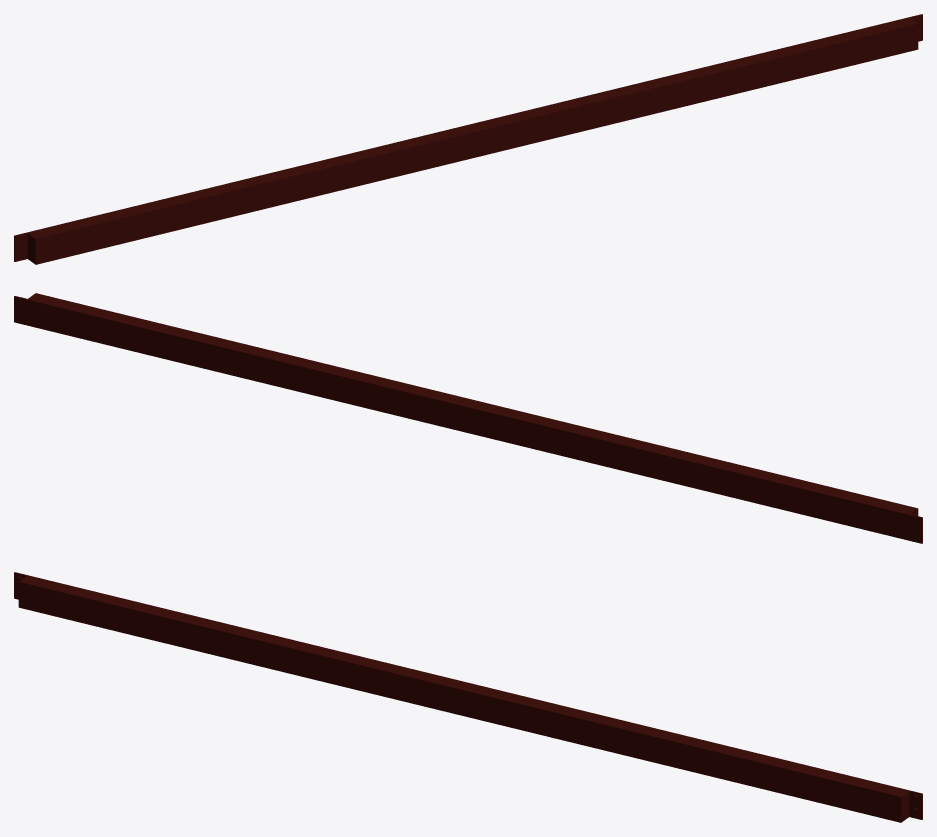
Rendered from 144_beam.obj.
3 views of the same model, one above another, from view 1: azimuth 30°, elevation 25°; view 2: azimuth 150°, elevation 25°; view 3: azimuth 330°, elevation 25° (orthographic).
Visible parts, largest first — view 1: 144"_Beam; view 2: 144"_Beam; view 3: 144"_Beam.
Part boxes in pixels (box(x1,y1,x2,y2)): 144"_Beam: box(14, 14, 922, 264); 144"_Beam: box(14, 293, 922, 543); 144"_Beam: box(14, 572, 922, 822).
Bounding box in the file's own units: 3.73 × 0.1016 × 0.0635.
